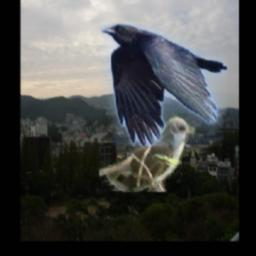Crow: (101, 24, 227, 146)
Cuckoo: (100, 117, 196, 193)
